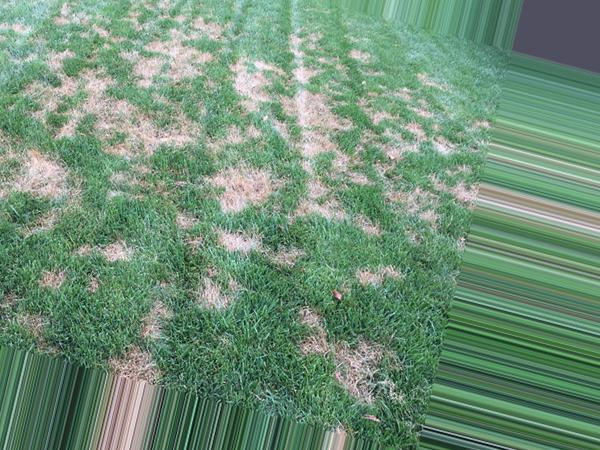patch: (316, 99, 421, 182), (4, 161, 91, 244), (104, 307, 205, 377), (315, 187, 403, 248), (206, 235, 296, 290), (84, 96, 169, 153), (338, 322, 402, 395), (124, 32, 214, 74), (115, 232, 172, 289), (234, 43, 282, 106), (33, 49, 110, 81), (216, 150, 264, 196), (13, 96, 76, 127)
